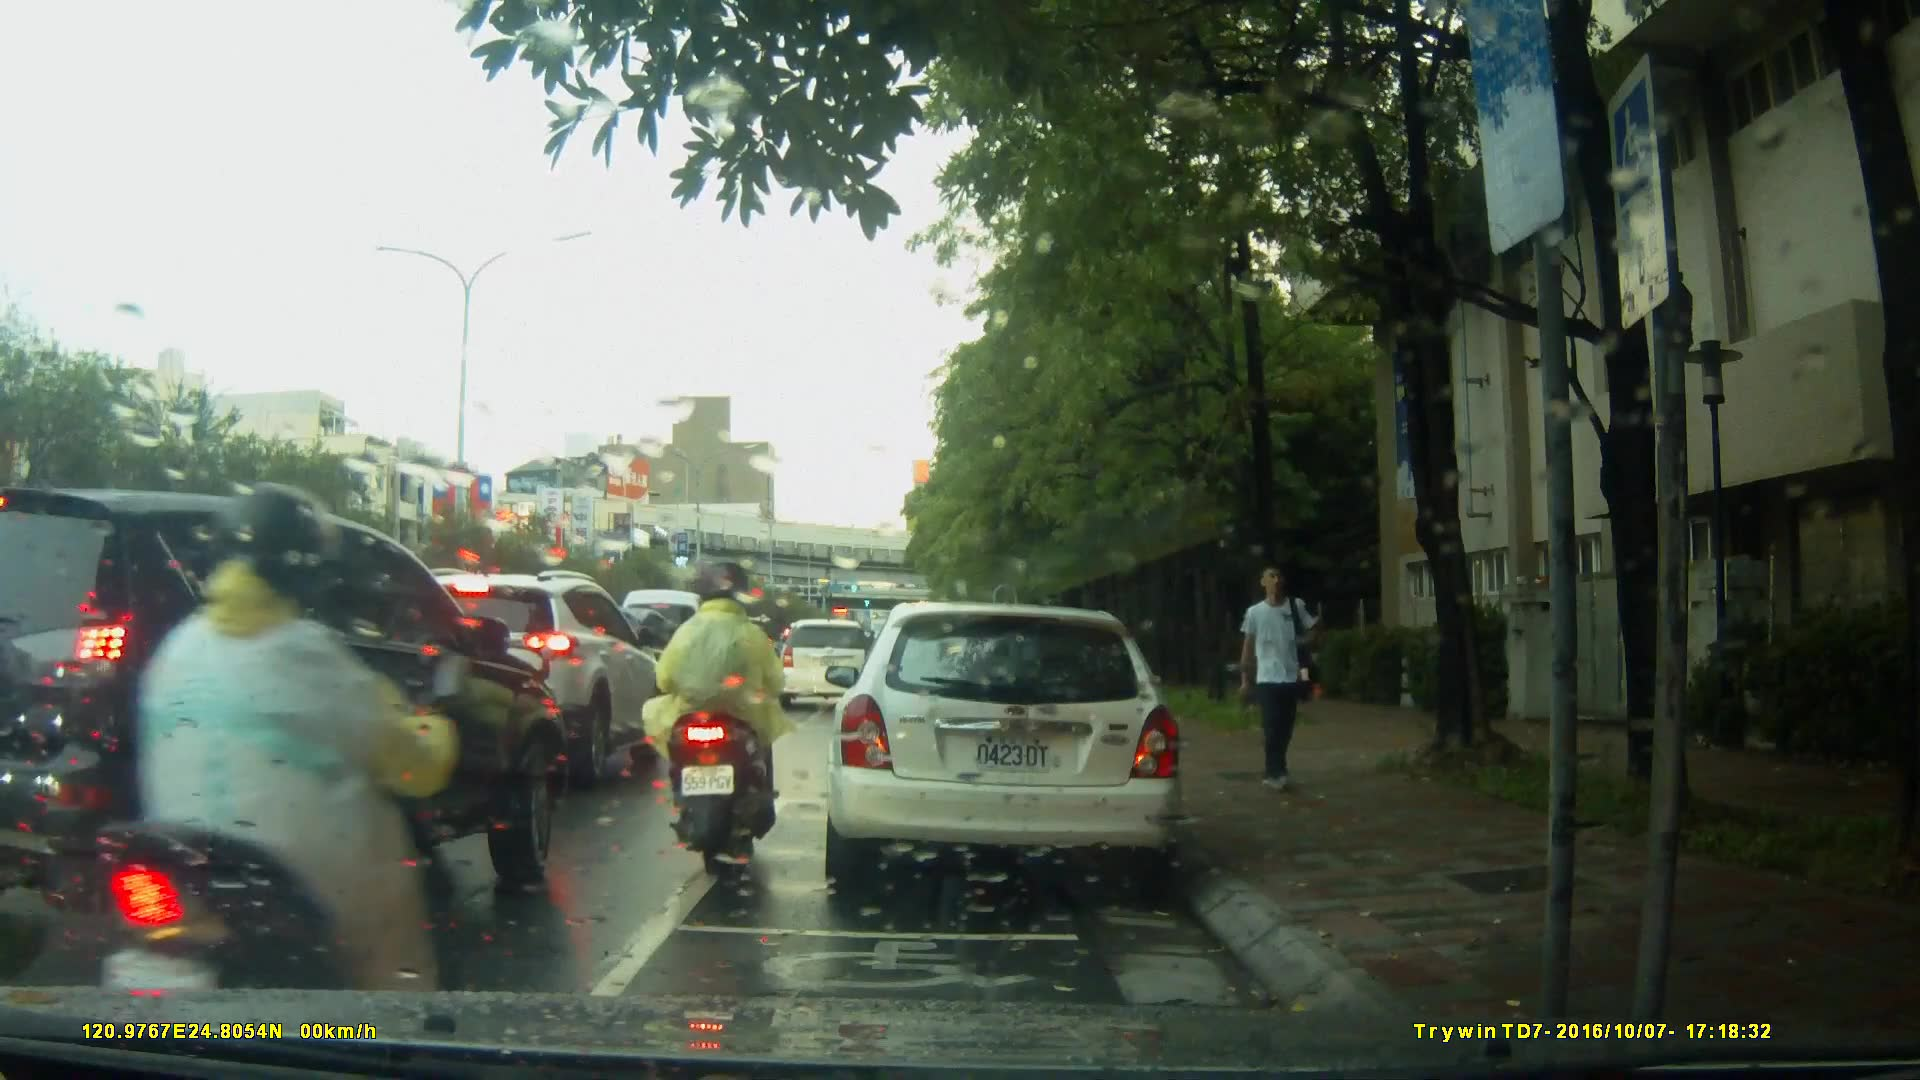pedestrian: (1227, 558, 1325, 804)
rider: (91, 490, 457, 1045), (656, 557, 799, 875)
vehicle: (1, 481, 574, 971), (820, 602, 1188, 898), (363, 566, 670, 783), (613, 588, 732, 717), (771, 617, 880, 710)
